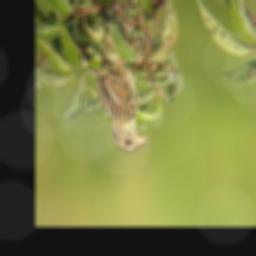Sparrow: (81, 32, 149, 155)
